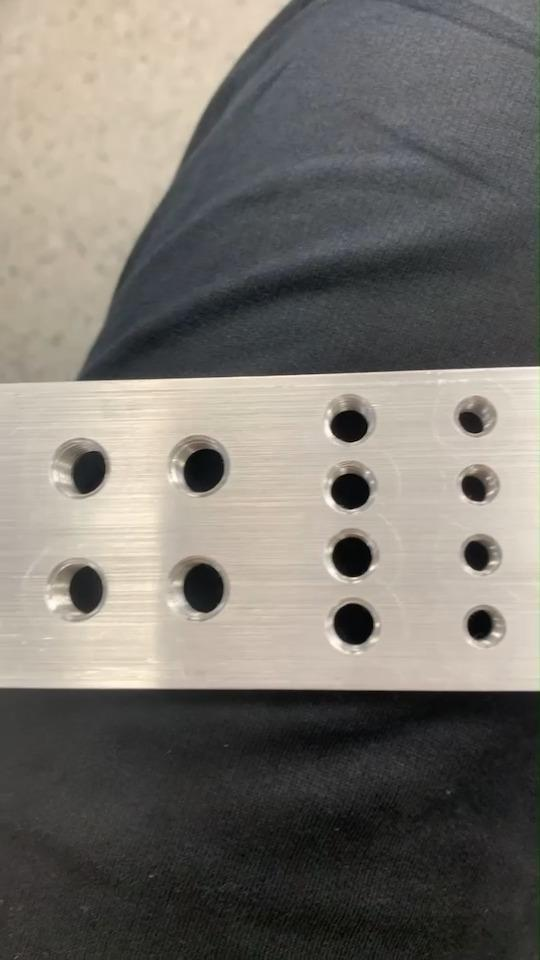hole: (162, 552, 228, 622), (166, 433, 232, 499), (44, 556, 107, 624), (48, 436, 112, 499), (321, 596, 386, 658), (324, 528, 380, 581), (321, 463, 378, 515), (322, 394, 376, 444), (460, 602, 508, 655), (455, 460, 502, 508), (453, 397, 500, 443), (460, 532, 503, 578)
